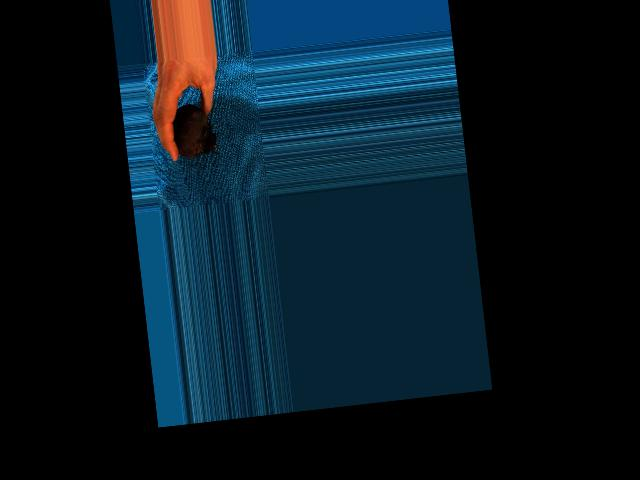beet: (171, 102, 219, 159)
